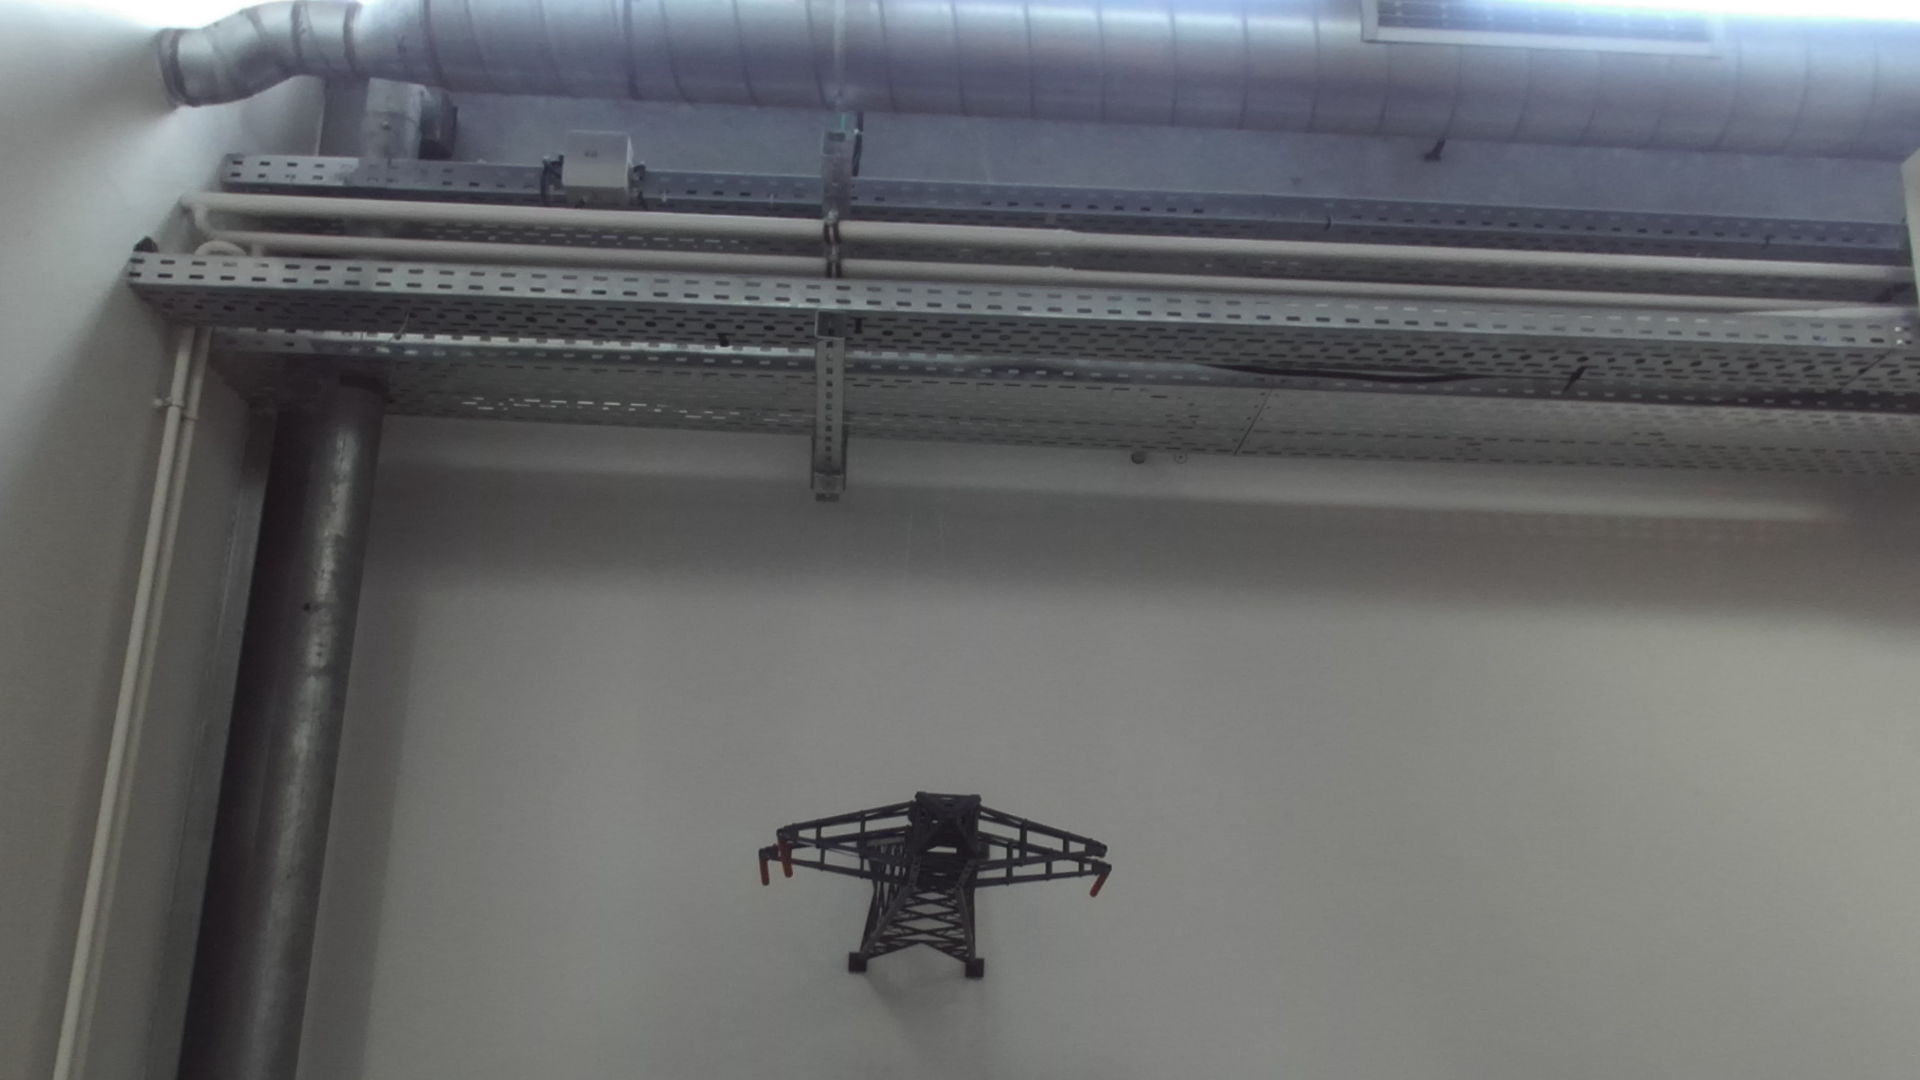pylon_phy: (773, 793, 1112, 862)
